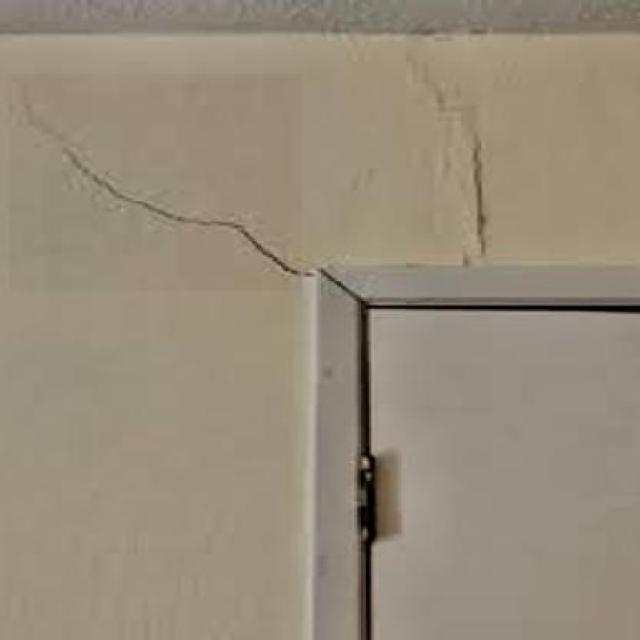Crack: (13, 72, 310, 292)
